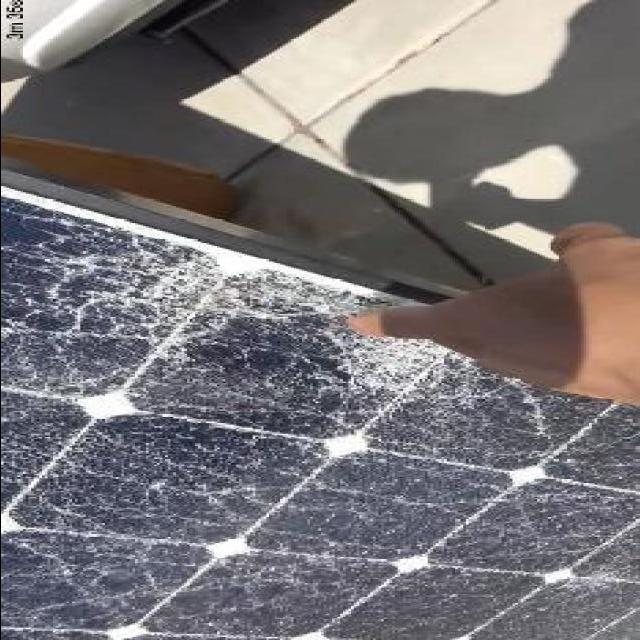cracked: (2, 217, 640, 639)
